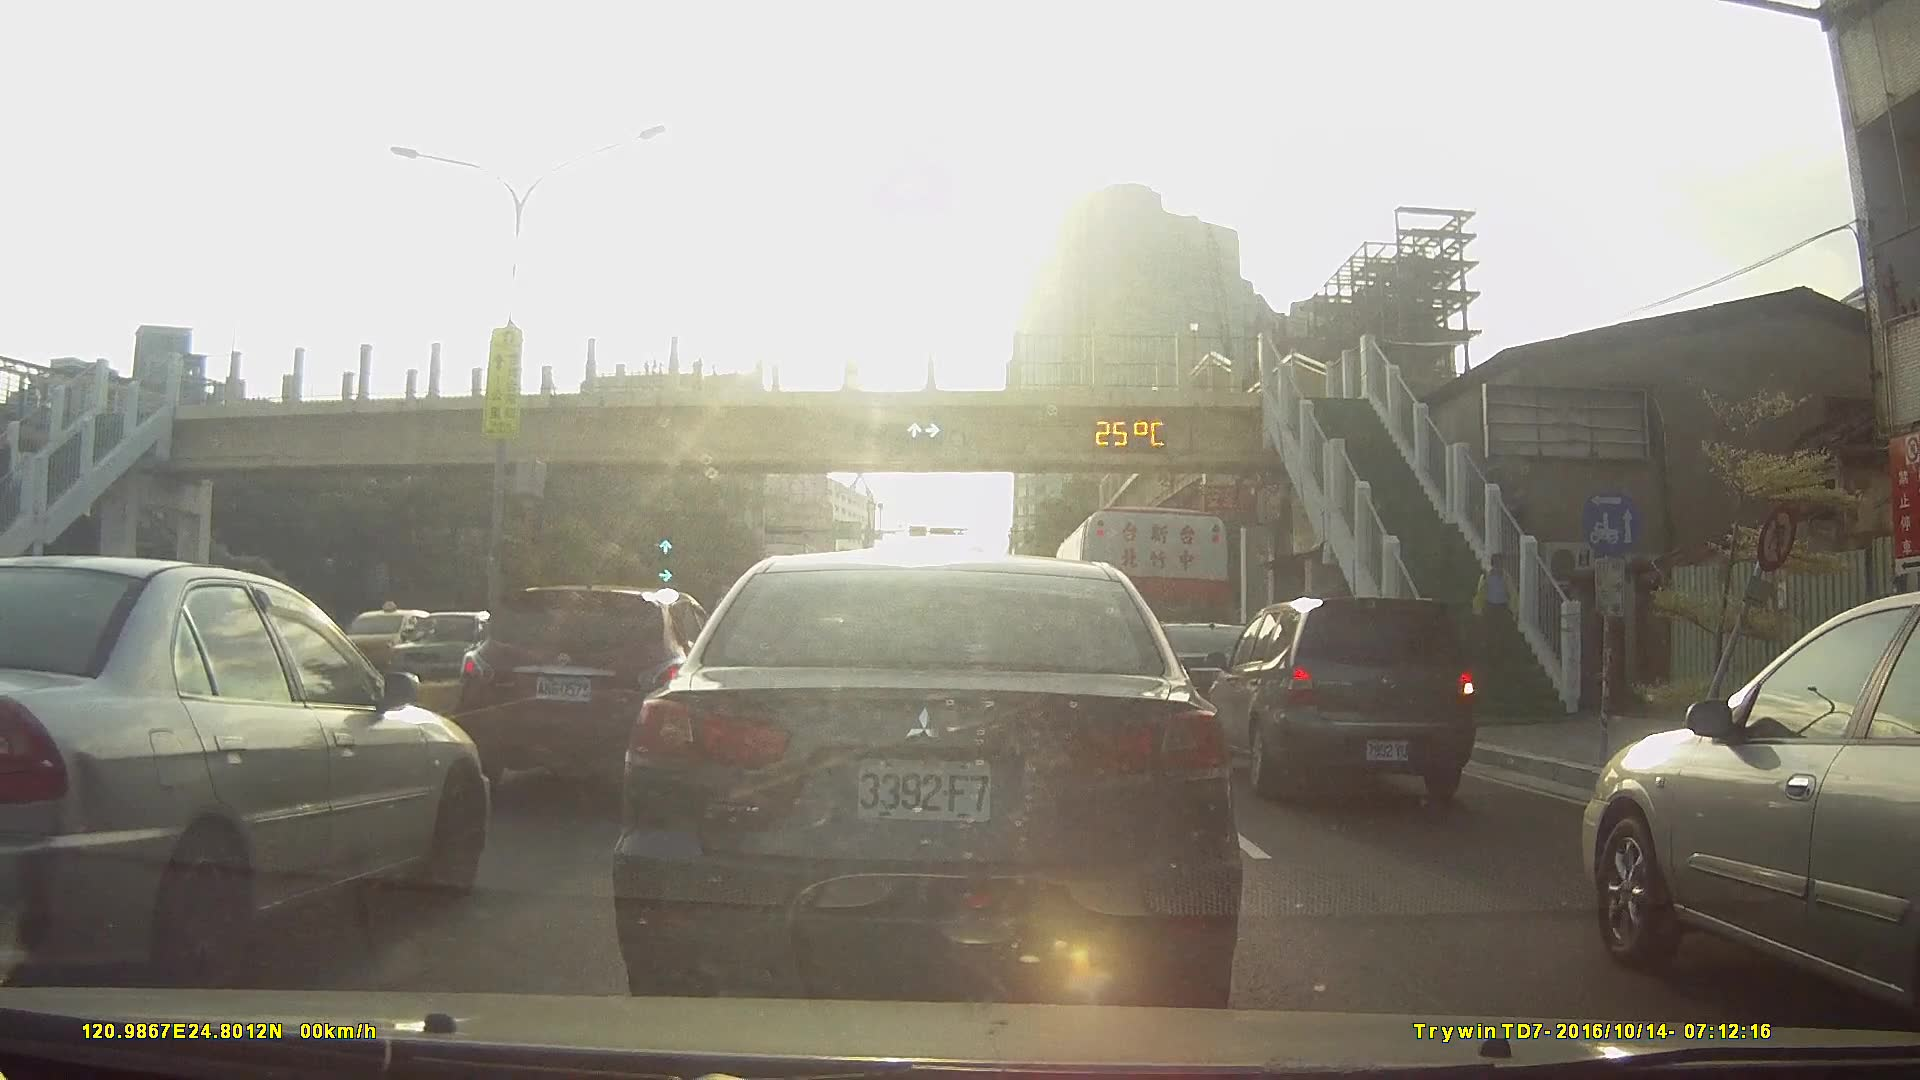pedestrian: (1473, 551, 1521, 658)
vehicle: (610, 552, 1246, 1005), (1, 557, 497, 985), (1570, 585, 1920, 1064), (1201, 596, 1489, 802), (460, 583, 733, 788), (1099, 615, 1278, 731), (375, 609, 520, 692), (322, 607, 439, 691)
